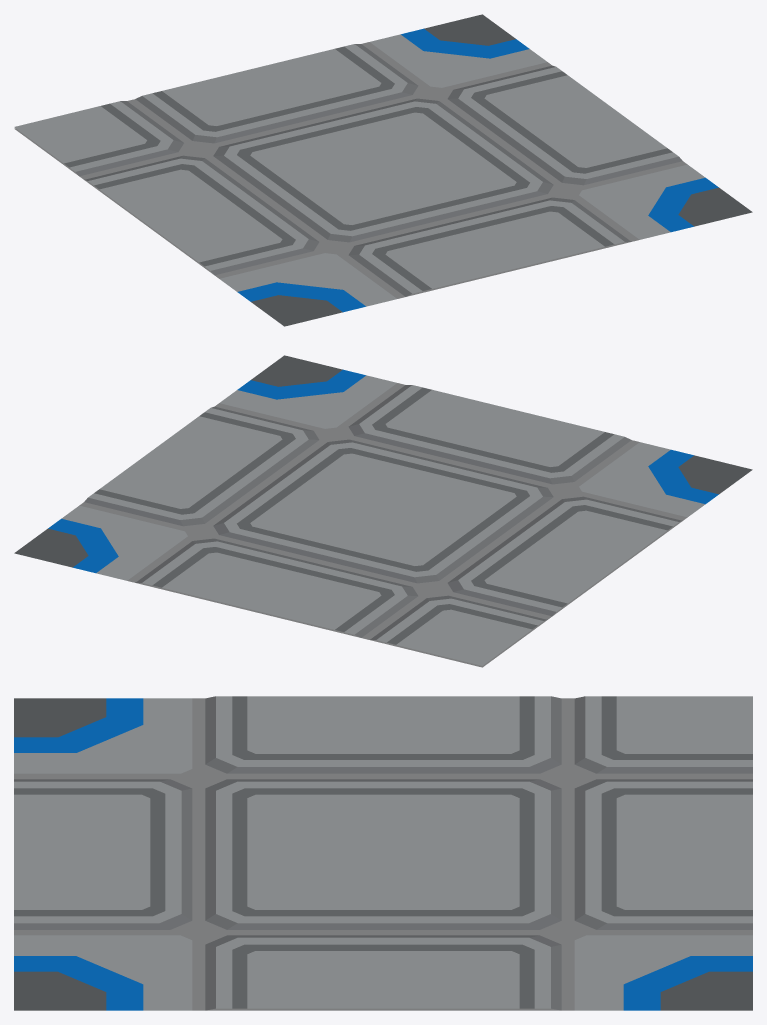
File: Floor_type_B_035.fbx
The picture shows the model from 3 angles, top to bottom: view 1: azimuth 30°, elevation 25°; view 2: azimuth 150°, elevation 25°; view 3: azimuth 270°, elevation 25°; orthographic projection. The views are drawn at different scales.
Parts seen in each view (by area): view 1: Floor_type_B_035; view 2: Floor_type_B_035; view 3: Floor_type_B_035.
Boxes of the visible parts, x1,y1,x2,y2 form: Floor_type_B_035: (14, 14, 752, 326); Floor_type_B_035: (14, 355, 752, 667); Floor_type_B_035: (14, 696, 752, 1010).
Size of the model in its own units: 400 by 400 by 1.34.
